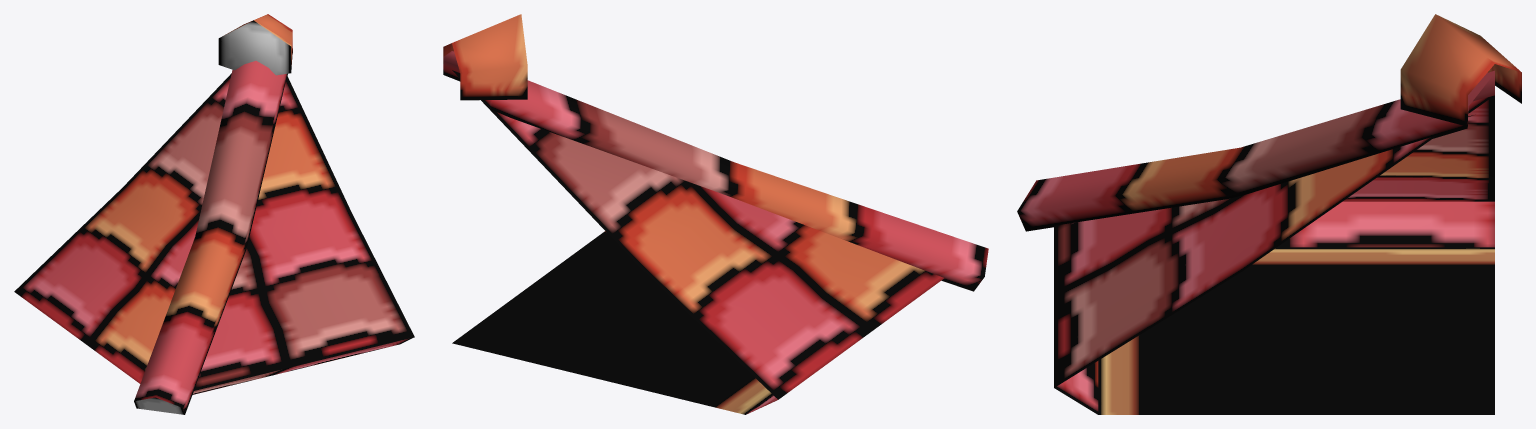
The model's file is arch_roof_cornerHalf_tiles.FBX.
3 renders of one model, left to right at view 1: azimuth 30°, elevation 25°; view 2: azimuth 150°, elevation 25°; view 3: azimuth 270°, elevation 25°, orthographic. The views are drawn at different scales.
Parts seen in each view (by area): view 1: arch_roof_cornerHalf_tiles; view 2: arch_roof_cornerHalf_tiles; view 3: arch_roof_cornerHalf_tiles.
Boxes of the visible parts, x1,y1,x2,y2 form: arch_roof_cornerHalf_tiles: [14, 14, 414, 414]; arch_roof_cornerHalf_tiles: [443, 14, 988, 414]; arch_roof_cornerHalf_tiles: [1017, 14, 1521, 414].
Bounding box in the file's own units: 2.86 × 2.35 × 2.86.
Materials: 1 (1 with a texture image).
